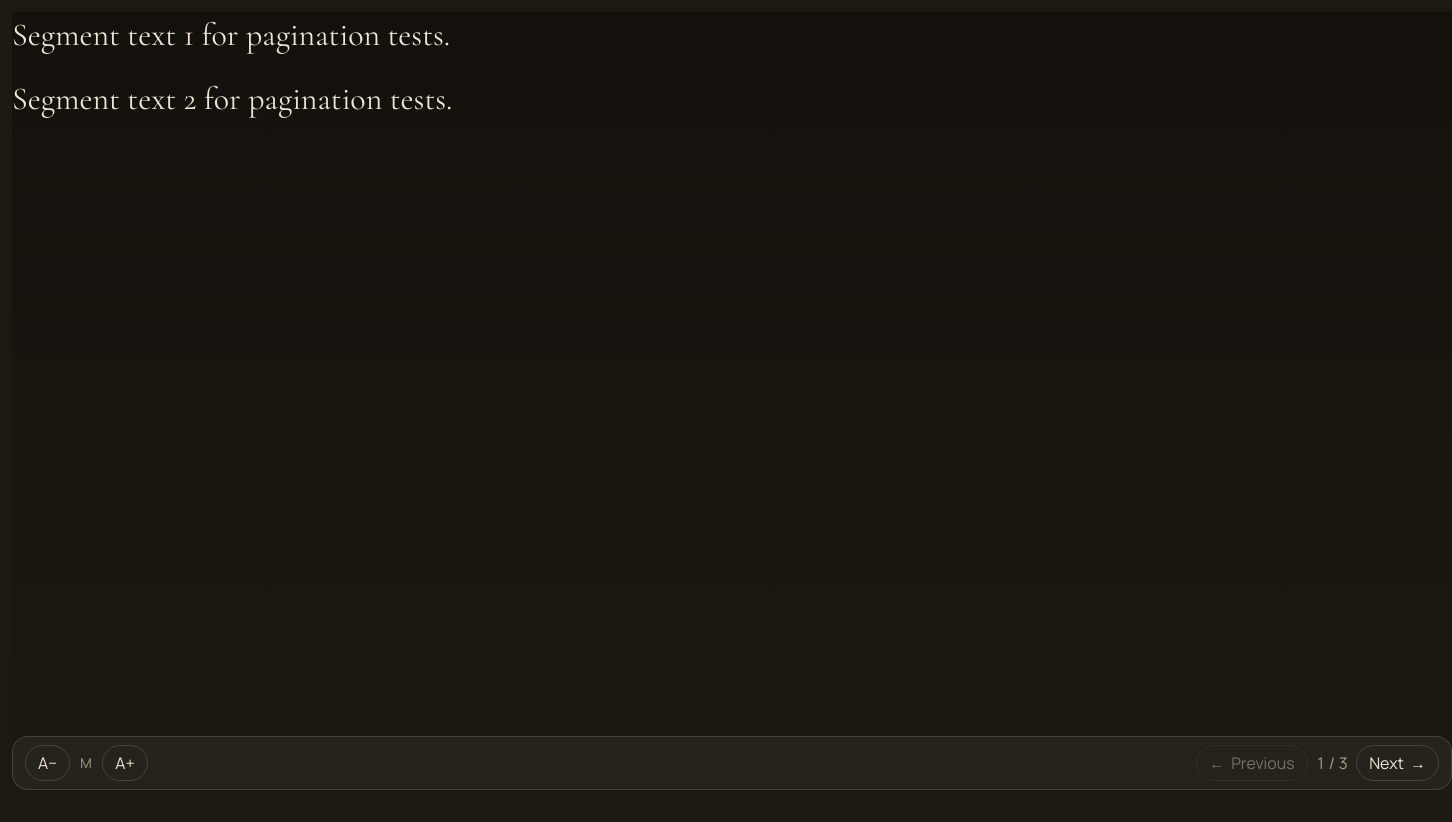
PaginatedReader › turns the page: indicator, URL, and progress all update
Click the button with aria-label "Next page" at (1398, 763), box [1356,745,1439,781]
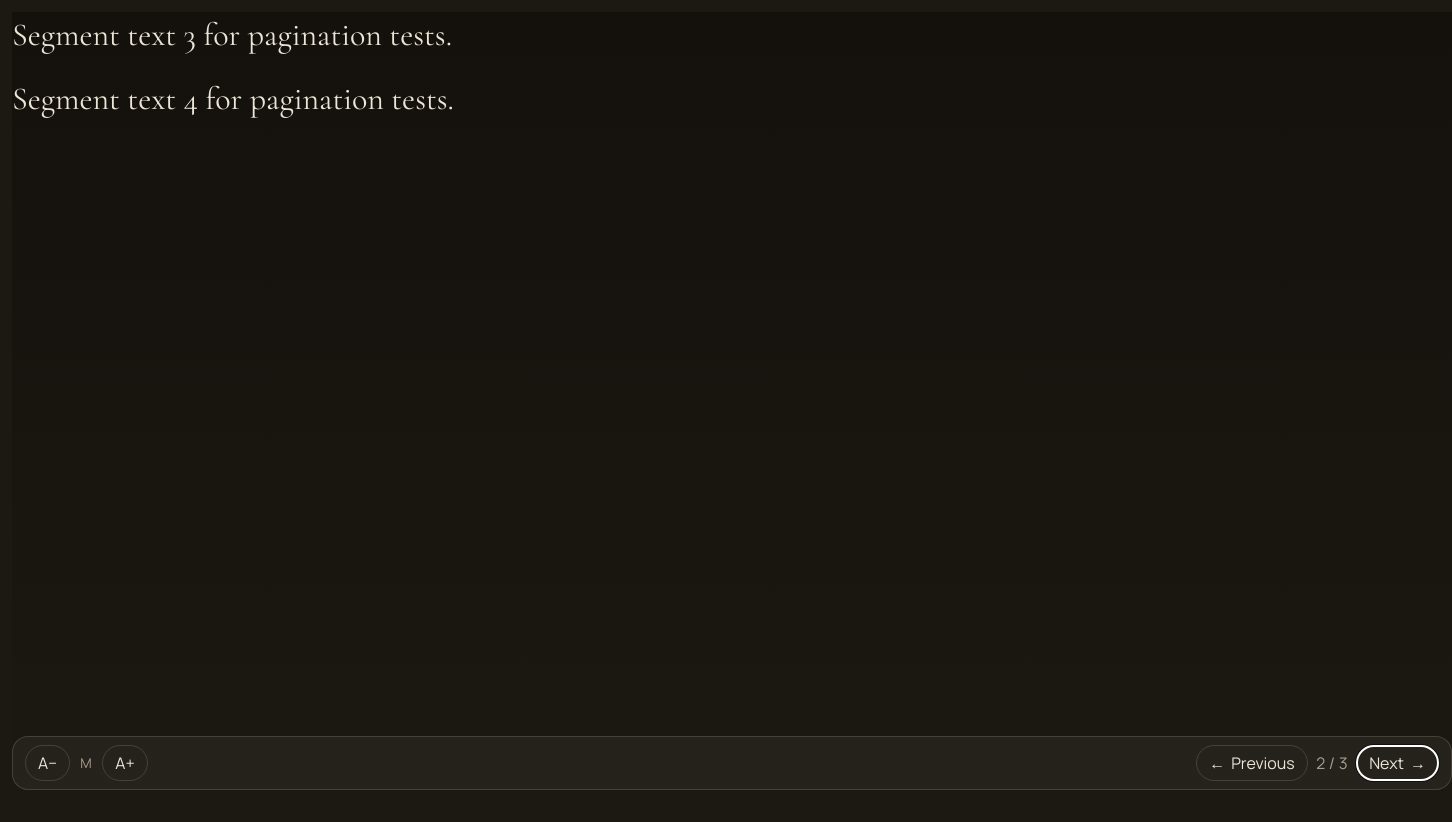
Now the text "2 / 3" is shown, box [1316,752,1348,774]
